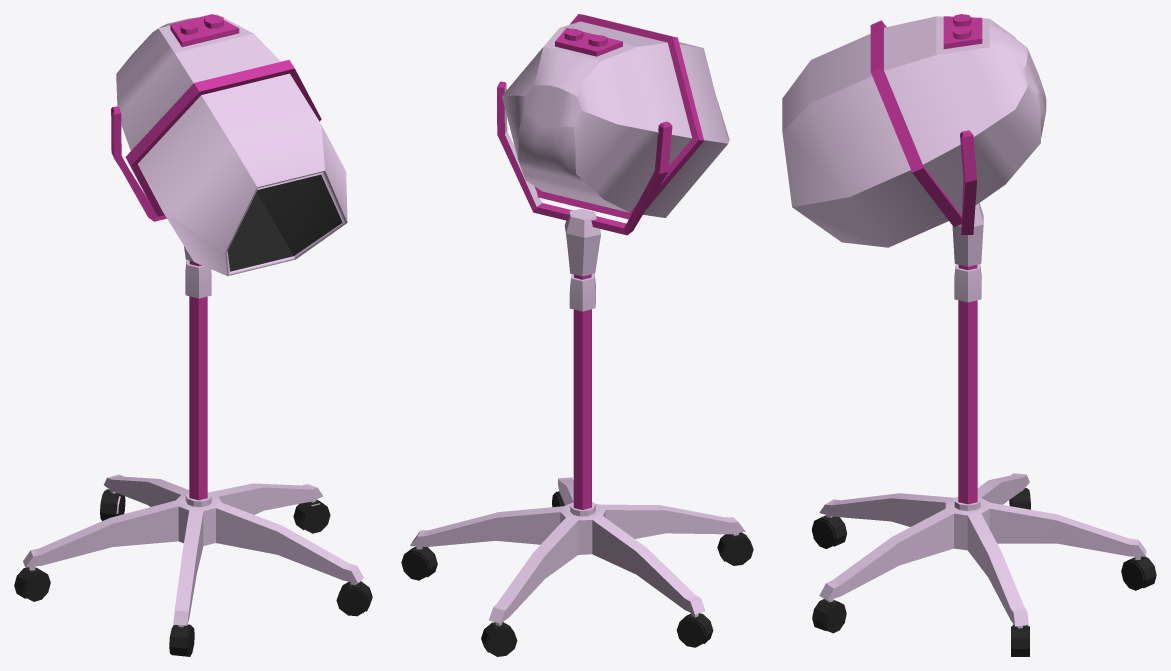
File: SECADORA DE PELO.fbx
3 renders of one model, left to right at view 1: azimuth 30°, elevation 25°; view 2: azimuth 150°, elevation 25°; view 3: azimuth 270°, elevation 25°, orthographic.
Parts seen in each view (by area): view 1: pCylinder15; view 2: pCylinder15; view 3: pCylinder15.
Boxes of the visible parts, <box> form: pCylinder15: <box>14,14,372,656</box>; pCylinder15: <box>401,14,753,656</box>; pCylinder15: <box>782,14,1156,656</box>.
Size of the model in its own units: 285 by 495 by 298.
